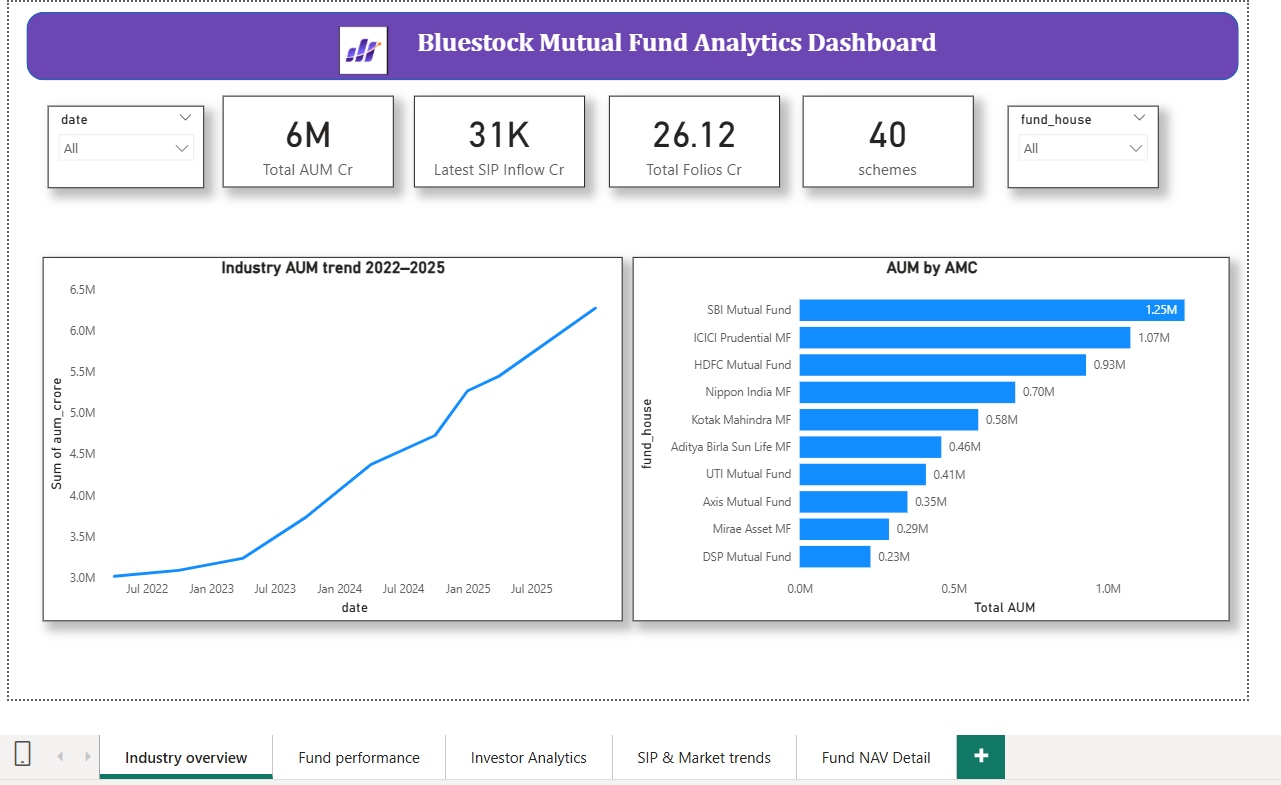

Layout of this report page (visuals, bound fields, positions):
{"tool":"powerbi","page":{"name":"Industry overview","canvas":[1286,725],"ordinal":0},"visuals":[{"type":"card","fields":{"Values":["03_aum_by_fund_house.Total AUM"]},"box":[222.6,97.8,177.3,95.4],"z":0},{"type":"card","fields":{"Values":["monthly_sip_inflows_clean.Latest SIP Inflow"]},"box":[420.7,97.8,177.3,95.4],"z":1000},{"type":"card","fields":{"Values":["06_industry_folio_count.Total Folios"]},"box":[623.6,97.8,177.3,95.4],"z":2000},{"type":"card","fields":{"Values":["01_fund_master.schemes"]},"box":[824.2,97.8,177.3,95.4],"z":3000},{"type":"lineChart","title":"Industry AUM trend 2022–2025","fields":{"Category":["03_aum_by_fund_house.date"],"Y":["Sum(03_aum_by_fund_house.aum_crore)"]},"box":[35.4,264.6,602.5,378.5],"z":4000},{"type":"clusteredBarChart","title":"AUM by AMC","fields":{"Category":["03_aum_by_fund_house.fund_house"],"Y":["03_aum_by_fund_house.Total AUM"]},"box":[648.1,264.6,620.3,378.5],"z":5000},{"type":"shape","box":[17.7,10.1,1259.5,70.9],"z":5001},{"type":"textbox","box":[387.3,20.3,613.9,49.4],"z":5002},{"type":"slicer","fields":{"Values":["03_aum_by_fund_house.date"]},"box":[40.4,107.6,162.6,85.6],"z":5003},{"type":"slicer","fields":{"Values":["03_aum_by_fund_house.fund_house"]},"box":[1038.2,107.6,156.5,85.6],"z":5004},{"type":"image","box":[336.7,20.3,63.3,59.5],"z":5005}]}

Visuals, with their boxes in screenshot pixels (x1, y1, x2, y2):
card - 03_aum_by_fund_house.Total AUM: <region>209, 93, 383, 186</region>
card - monthly_sip_inflows_clean.Latest SIP Inflow: <region>403, 93, 577, 186</region>
card - 06_industry_folio_count.Total Folios: <region>603, 93, 777, 186</region>
card - 01_fund_master.schemes: <region>800, 93, 974, 186</region>
"Industry AUM trend 2022–2025" lineChart: <region>25, 257, 617, 628</region>
"AUM by AMC" clusteredBarChart: <region>627, 257, 1236, 628</region>
shape: <region>7, 7, 1245, 76</region>
textbox: <region>370, 17, 974, 65</region>
slicer - 03_aum_by_fund_house.date: <region>30, 102, 189, 186</region>
slicer - 03_aum_by_fund_house.fund_house: <region>1010, 102, 1164, 186</region>
image: <region>321, 17, 383, 75</region>
